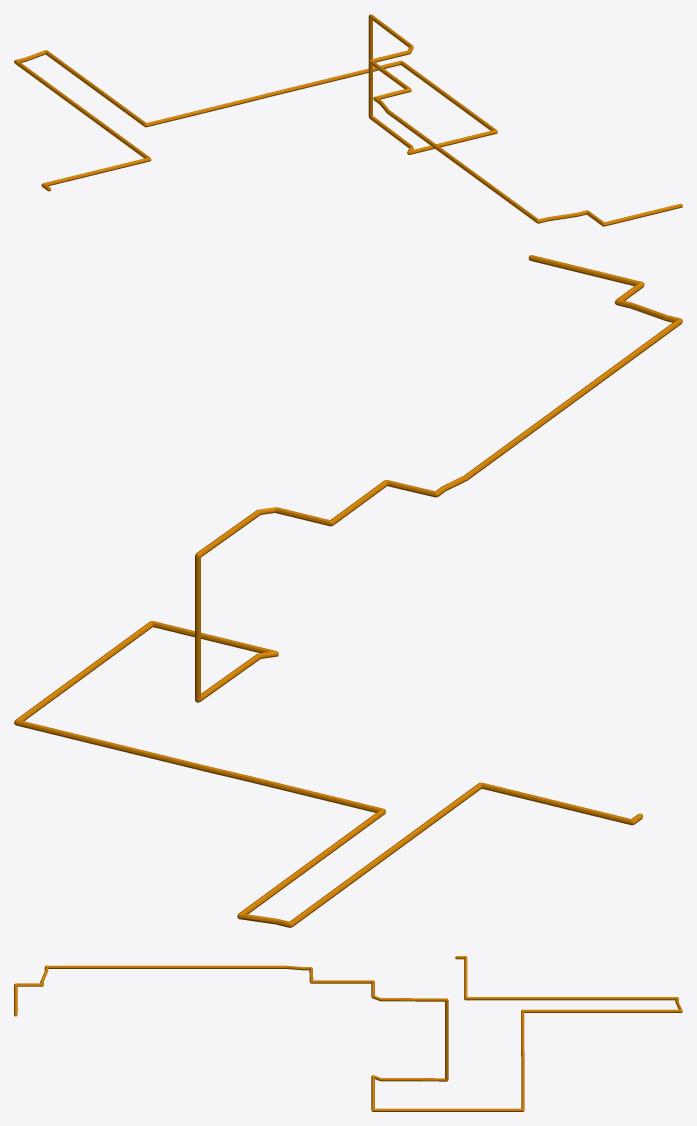
3 renders of one model, top to bottom at view 1: azimuth 30°, elevation 25°; view 2: azimuth 150°, elevation 25°; view 3: azimuth 270°, elevation 25°, orthographic. The views are drawn at different scales.
Size of the model in its own units: 2068 by 520 by 3795.
